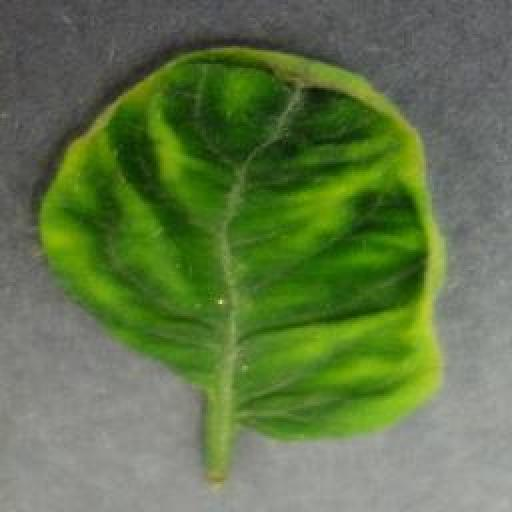Yellow Leaf Curl Virus: (32, 42, 447, 442)
